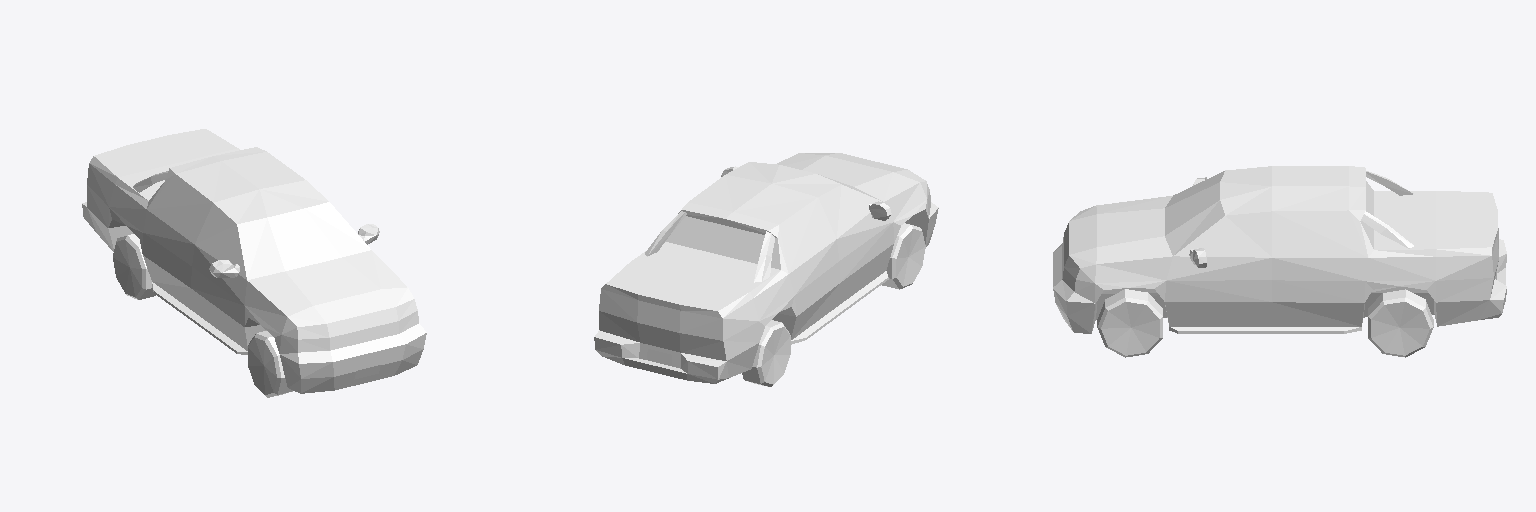
The model's file is 2007chevyavalanche.obj.
The picture shows the model from 3 angles: view 1: azimuth 30°, elevation 25°; view 2: azimuth 150°, elevation 25°; view 3: azimuth 270°, elevation 25°; orthographic projection.
Visible parts, largest first — view 1: Box01; view 2: Box01; view 3: Box01.
Part boxes in pixels (x1,y1,x2,y2): Box01: (82,129,426,397); Box01: (594,153,938,386); Box01: (1053,166,1506,357).
Size of the model in its own units: 238 by 190 by 562.